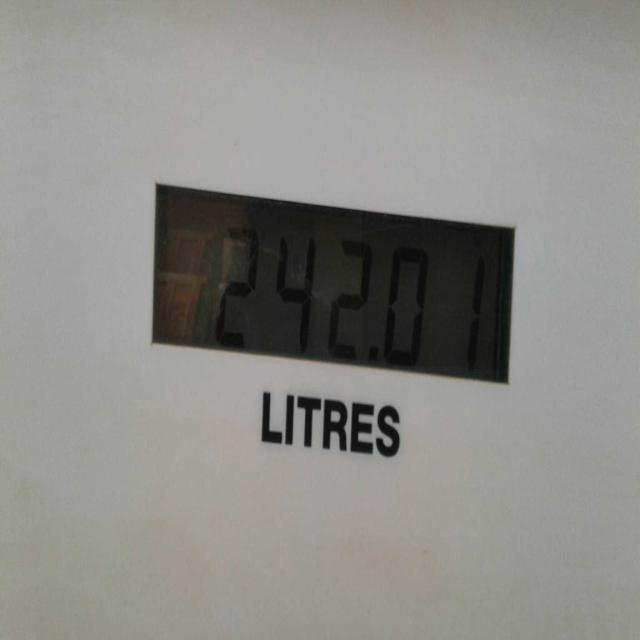.: (361, 344, 392, 380)
0: (380, 228, 427, 376)
1: (456, 249, 494, 373)
2: (211, 221, 271, 358), (321, 232, 373, 365)
4: (276, 222, 333, 370)
